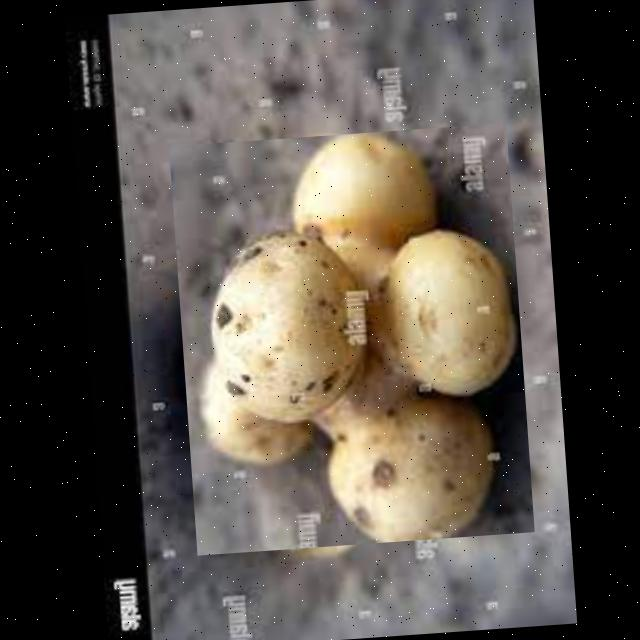Defected potato: (167, 122, 534, 556)
